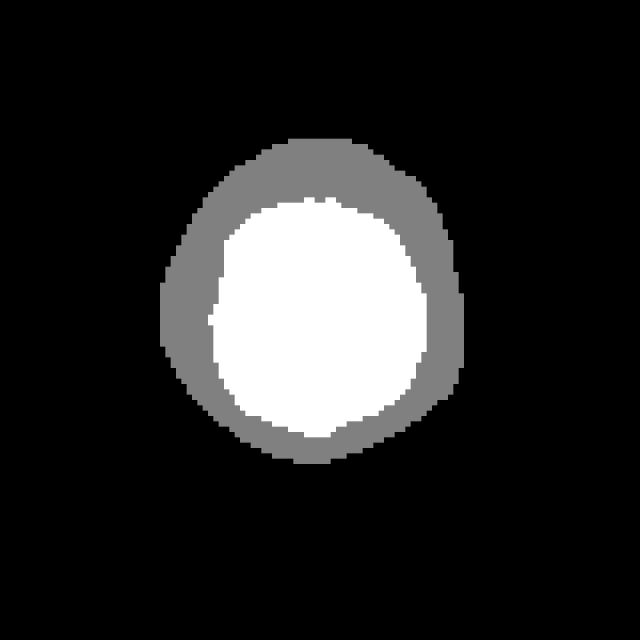WBC: (139, 117, 517, 523)
